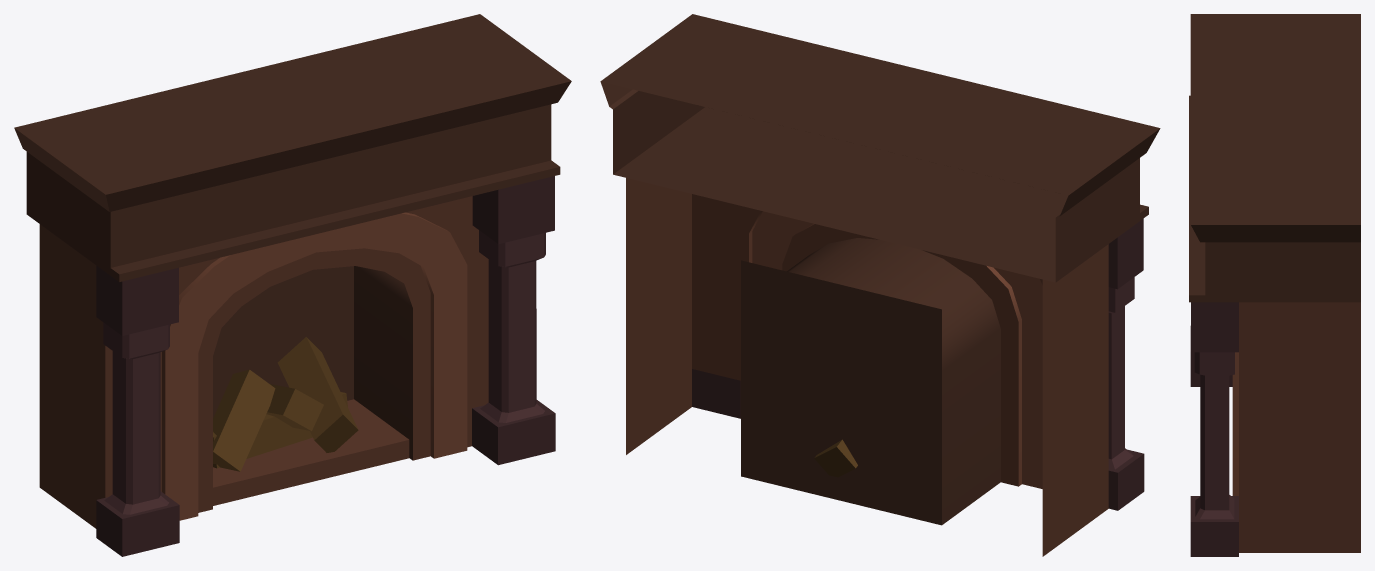
Rendered from SM_GameArea_Fireplace_01.fbx.
The picture shows the model from 3 angles, left to right: view 1: azimuth 30°, elevation 25°; view 2: azimuth 150°, elevation 25°; view 3: azimuth 270°, elevation 25°; orthographic projection. The views are drawn at different scales.
Visible parts, largest first — view 1: SM_GameArea_Fireplace_01; view 2: SM_GameArea_Fireplace_01; view 3: SM_GameArea_Fireplace_01.
Boxes of the visible parts, x1,y1,x2,y2 form: SM_GameArea_Fireplace_01: (14, 14, 571, 556); SM_GameArea_Fireplace_01: (600, 14, 1160, 556); SM_GameArea_Fireplace_01: (1189, 14, 1360, 556).
Bounding box in the file's own units: 9.42 × 7.07 × 3.24.
1 material, 1 textured.
